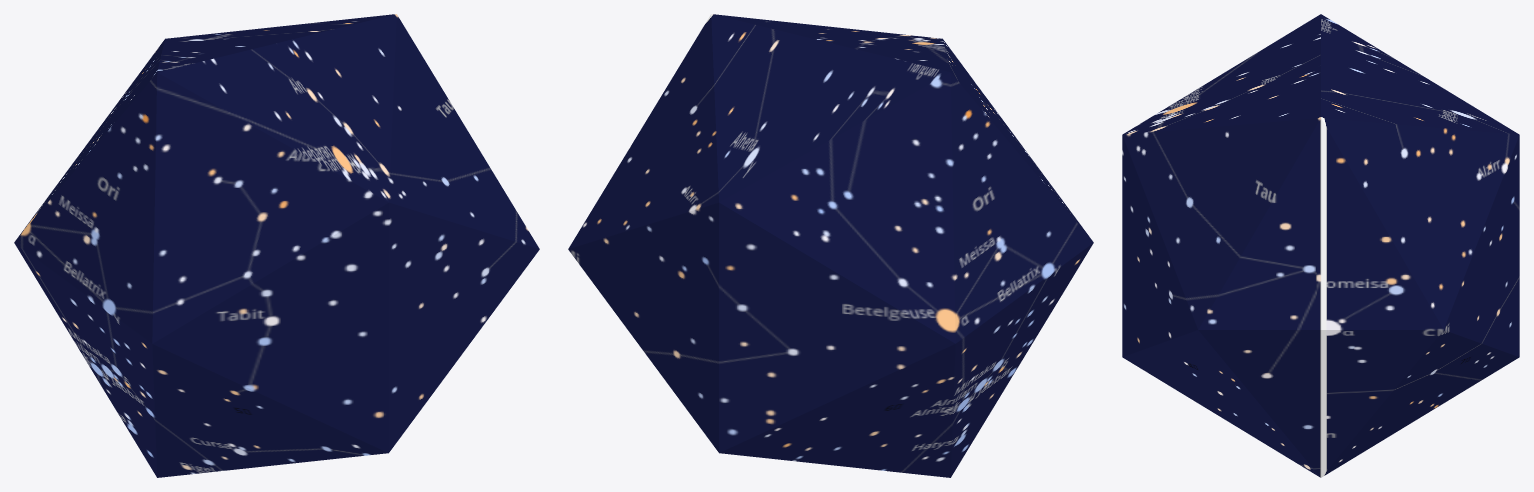
The model's file is starChart.glb.
The picture shows the model from 3 angles, left to right: view 1: azimuth 30°, elevation 25°; view 2: azimuth 150°, elevation 25°; view 3: azimuth 270°, elevation 25°; orthographic projection. The views are drawn at different scales.
Parts seen in each view (by area): view 1: Icosahedron; view 2: Icosahedron; view 3: Icosahedron.
Boxes of the visible parts, x1=… form: Icosahedron: x1=14, y1=14, x2=539, y2=477; Icosahedron: x1=568, y1=14, x2=1093, y2=477; Icosahedron: x1=1122, y1=14, x2=1519, y2=477.
Bounding box in the file's own units: 128 × 128 × 128.
1 material, 1 textured.
